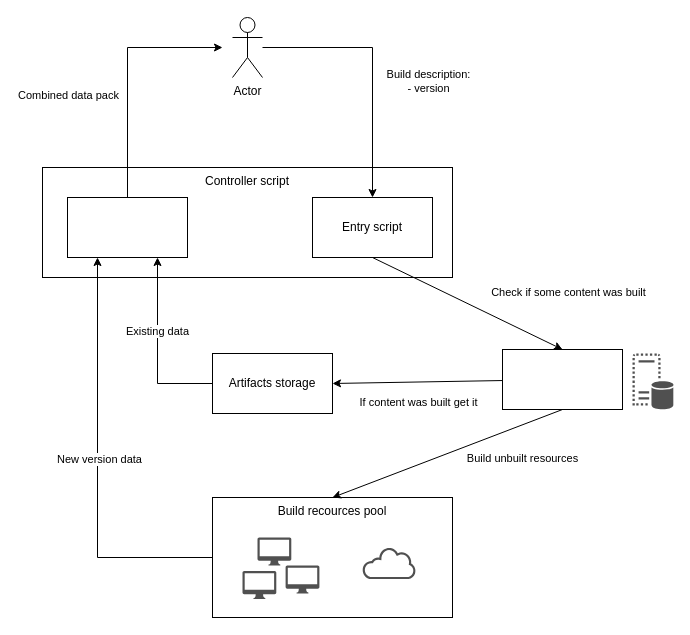
This 690x635 diagram has some shape labels left out. The centre of each missing label's shape, as x and y in pixels:
"Artifacts version control" belongs at (x=562, y=379).
"Combine script" belongs at (x=127, y=227).
